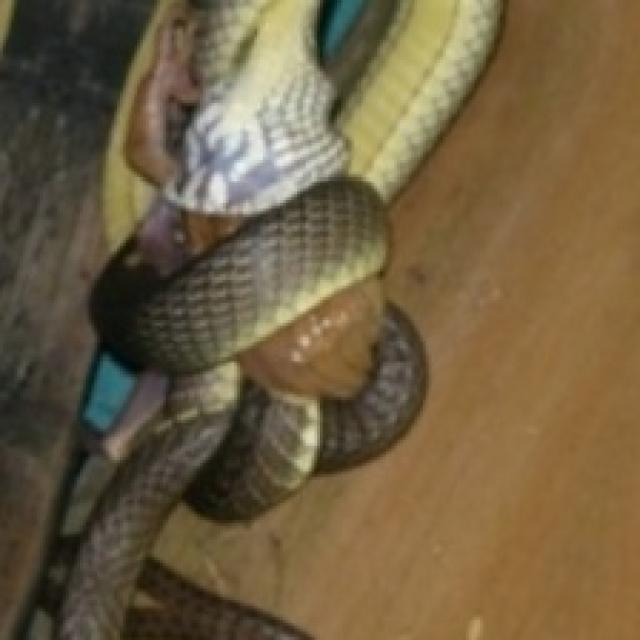paradise tree snake: (0, 0, 149, 637), (343, 29, 426, 177)
